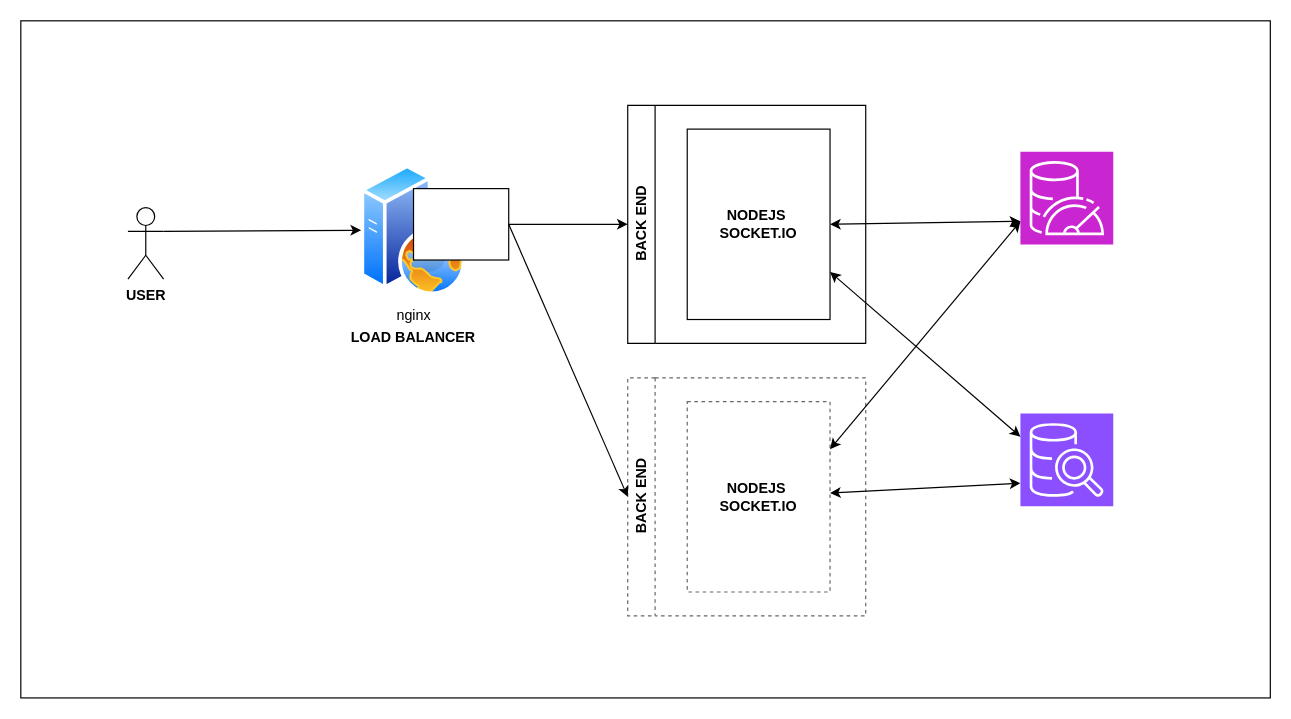
Image size: 1291x719. Some labels were removed from this diagram. Here are the shapes that lost their labels. From the top down, the centre of each, then its label:
point (1066, 198): REDIS
point (460, 223): REACTJS socket.io
point (1066, 459): NOSQL DB
